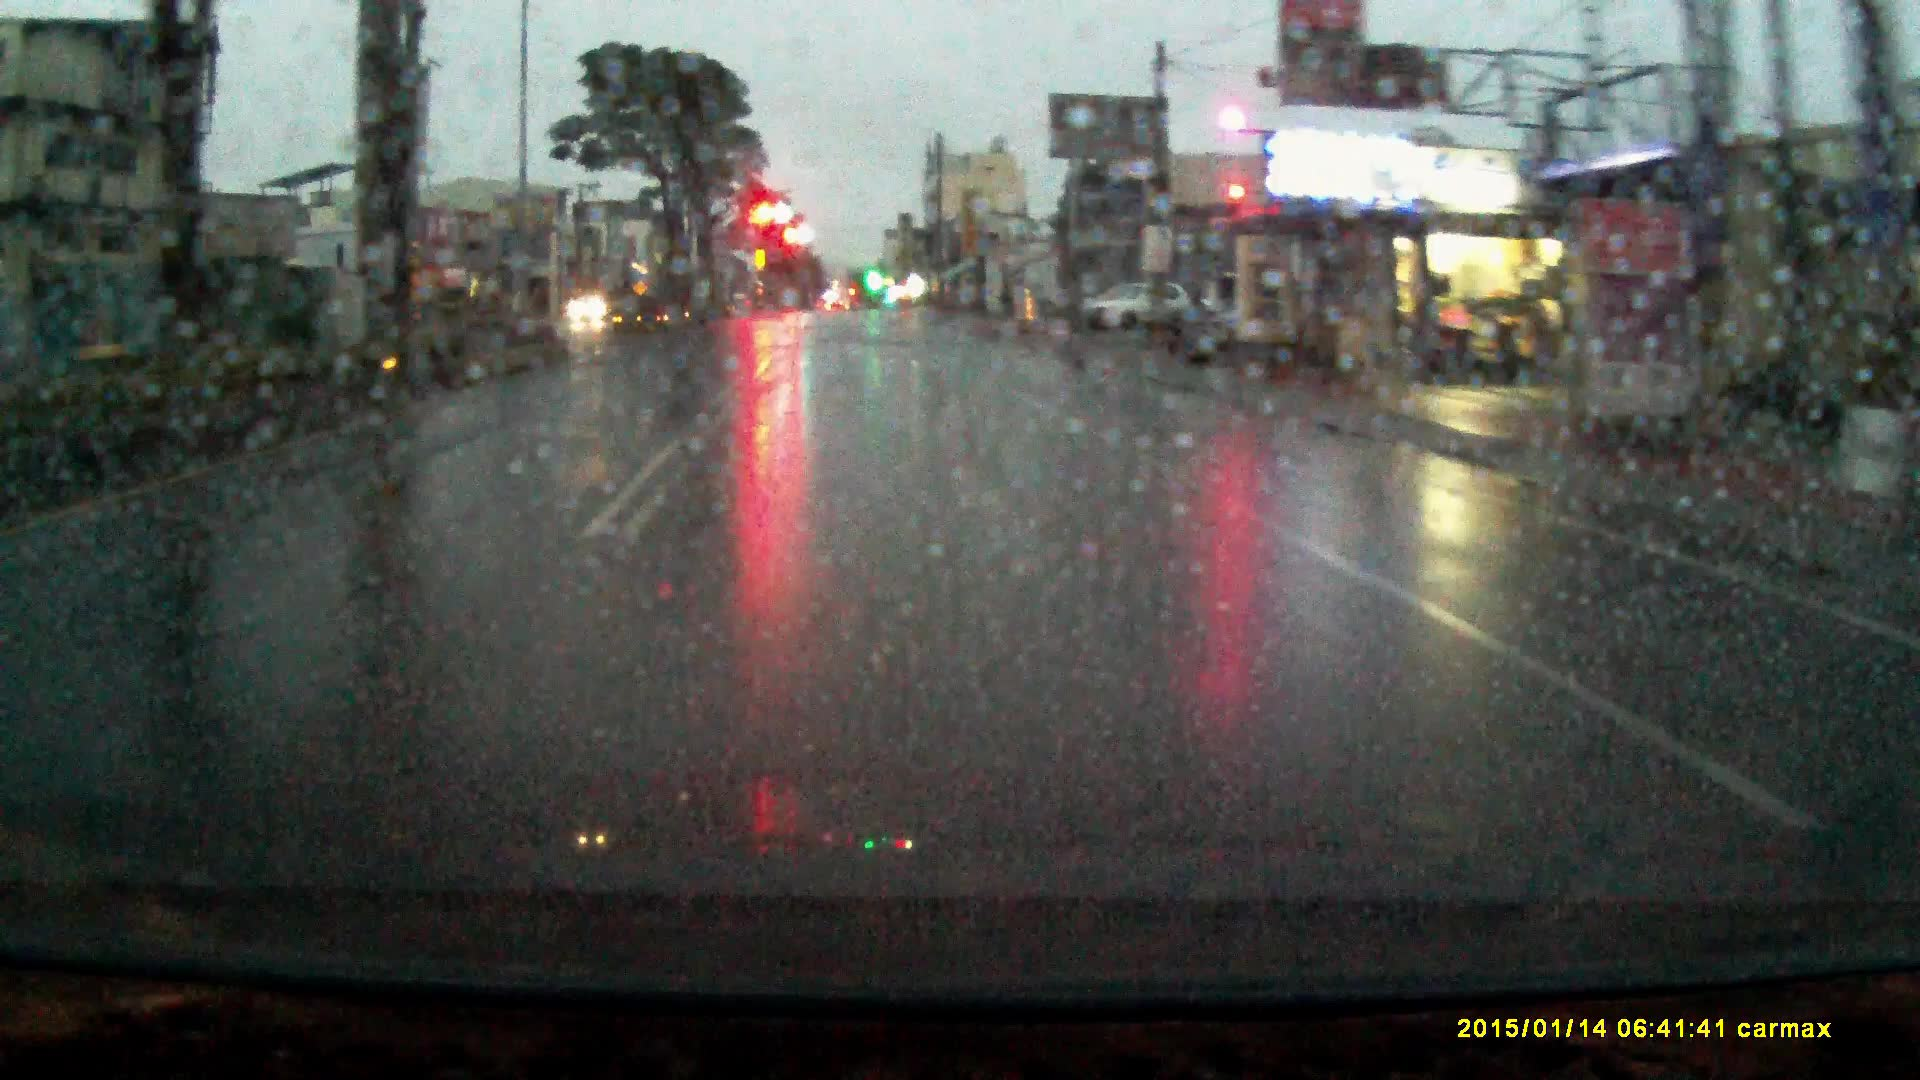vehicle: (1084, 284, 1196, 338), (567, 294, 615, 328)
